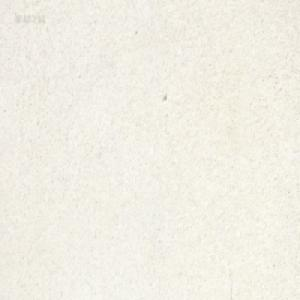Wrench: (207, 0, 214, 5)
